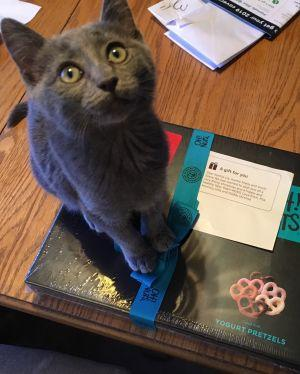rblue: (1, 1, 163, 154)
